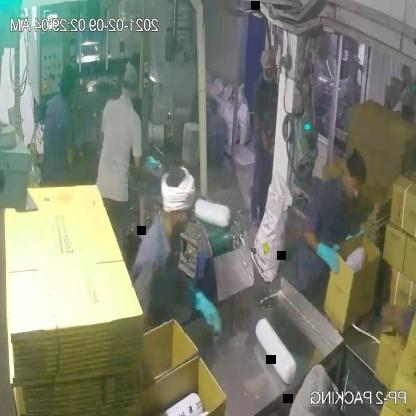glove: (181, 286, 226, 340), (308, 235, 350, 278)
no_glove: (378, 294, 414, 338), (249, 104, 272, 154)
